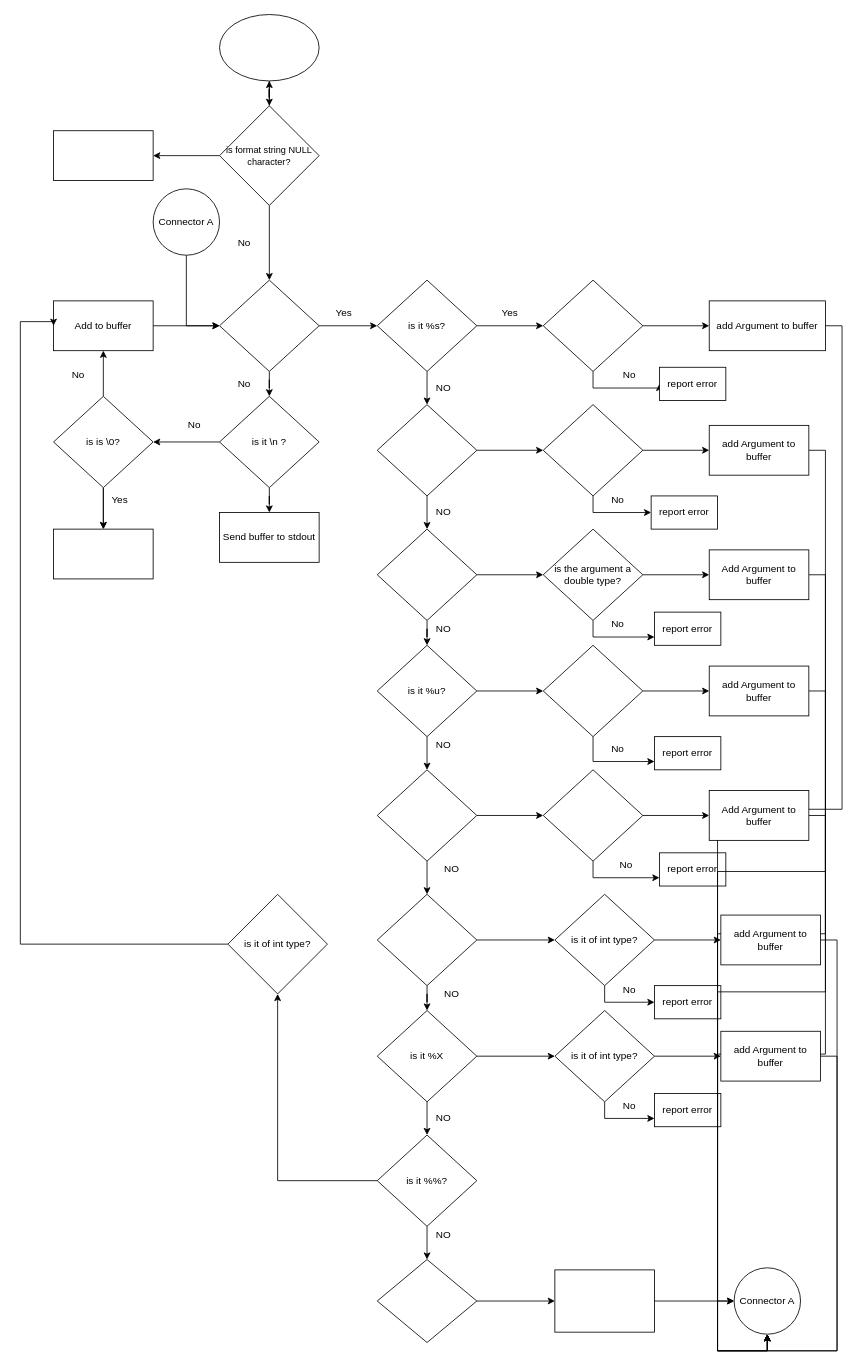
Some shapes in this 863 by 1372 pixel diagram are drawn without their labels. Here are the shapes that lost their labels. From the top down, the centre of each, then its label:
At (x=269, y=47): "Start".
At (x=103, y=155): "Exit printf function".
At (x=269, y=325): "is it a spercifier?".
At (x=592, y=325): "check if argument is of pointer string type".
At (x=426, y=450): "is it %d?".
At (x=592, y=450): "is the argument of int type?".
At (x=103, y=553): "End function".
At (x=426, y=574): "is it %f?".
At (x=592, y=690): "is the the type unsigned integer?".
At (x=426, y=815): "is it %c?".
At (x=592, y=815): "is it a of char type".
At (x=426, y=939): "is it %x?".
At (x=426, y=1301): "is it %n?".
At (x=604, y=1300): "create memory store the buffer and set the argument to the pointer address".
